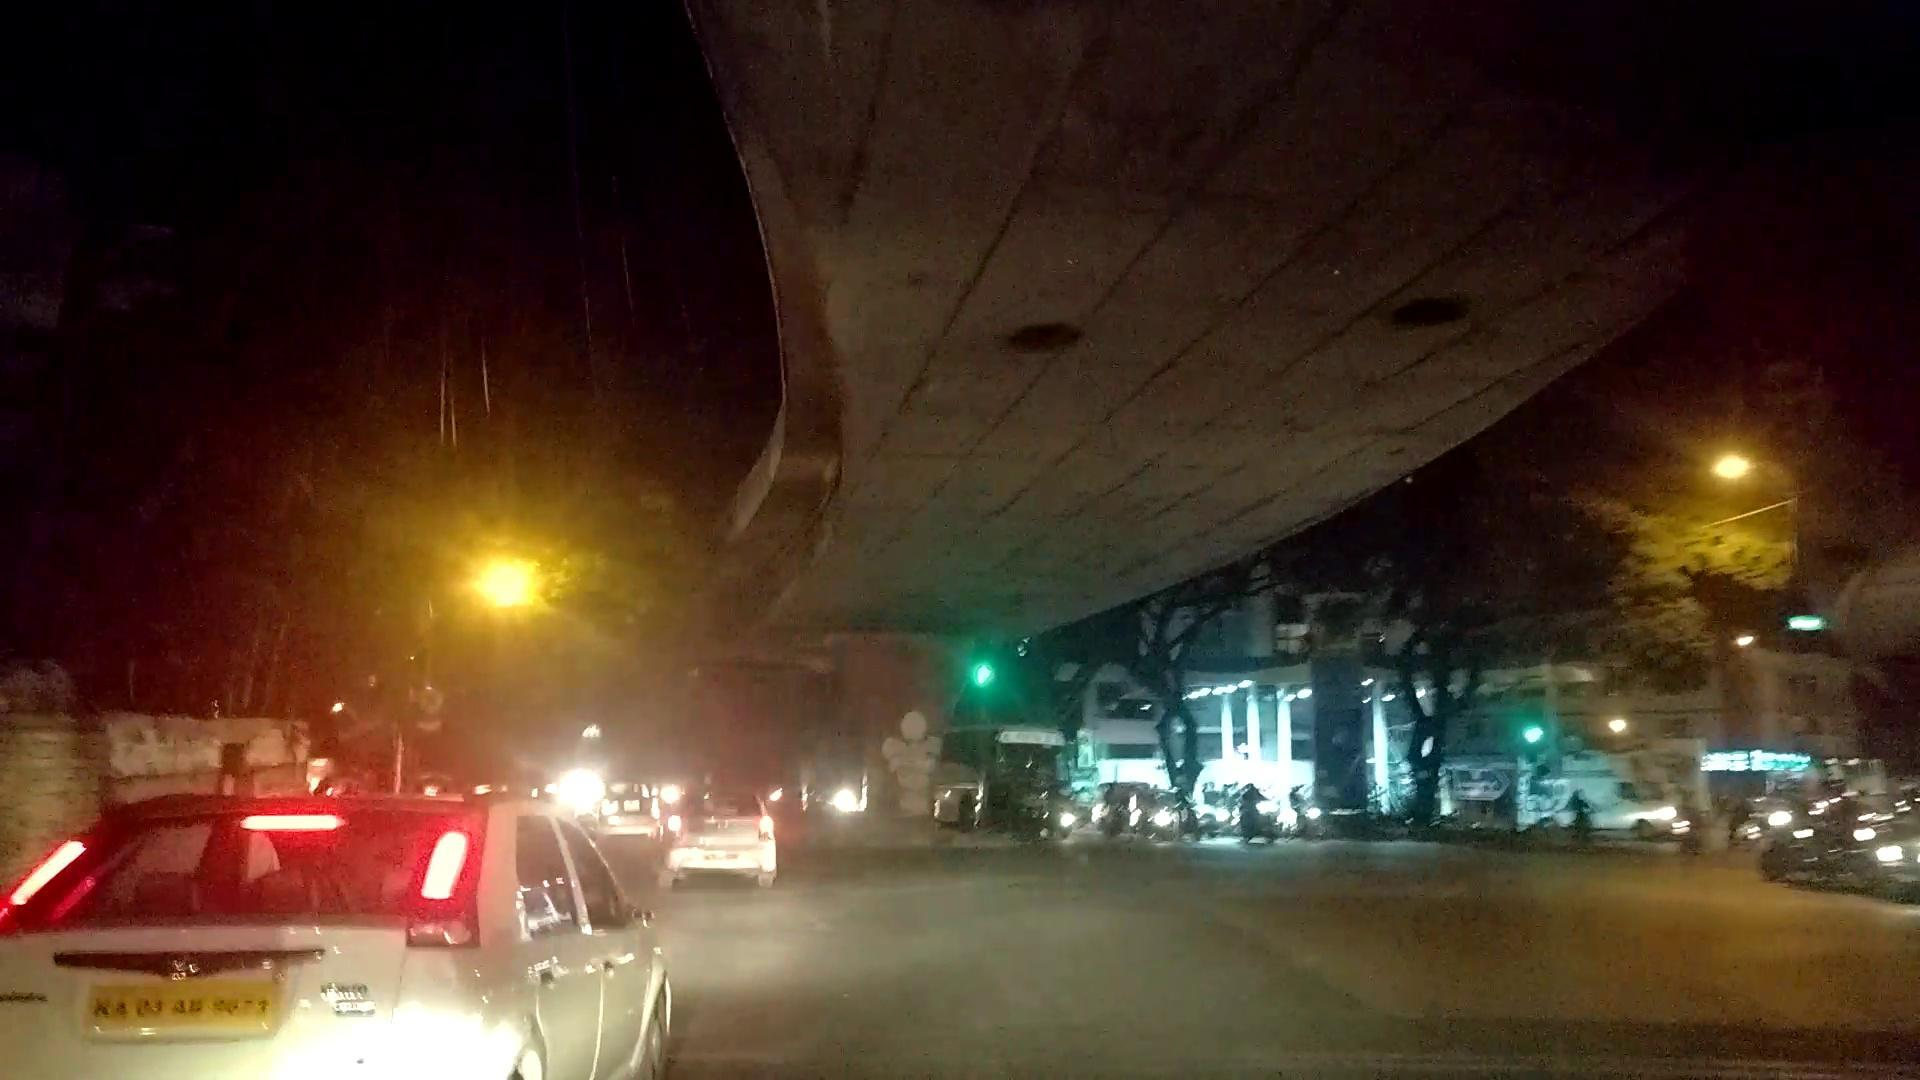on: (229, 352, 1838, 858)
